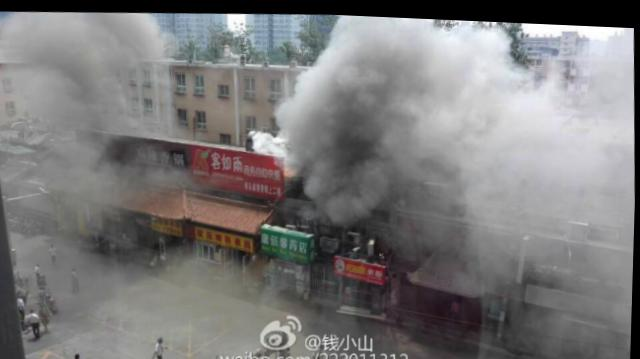smoke: (404, 28, 503, 134), (337, 14, 400, 154), (48, 20, 113, 112), (506, 118, 587, 188), (288, 100, 334, 147), (324, 159, 363, 206), (116, 16, 153, 53)
